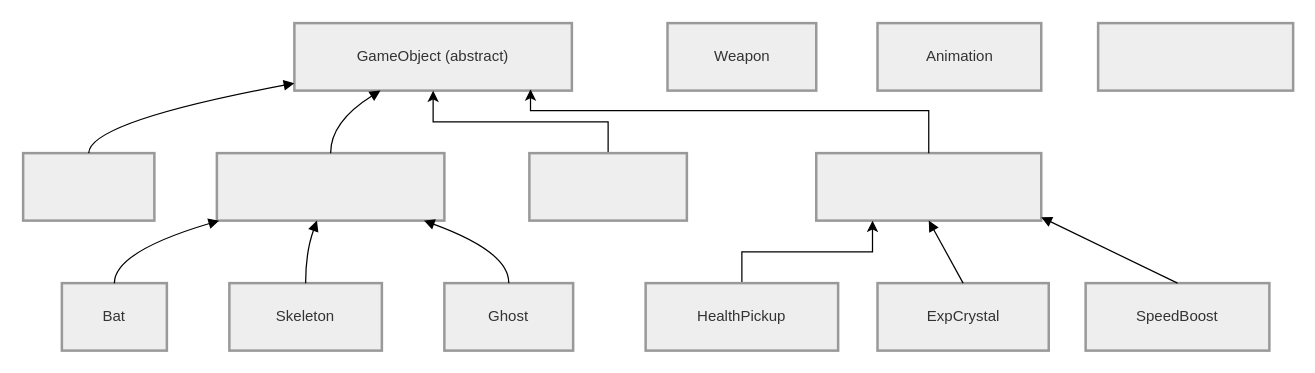
Some shapes in this 1315 by 373 pixel diagram are drawn without their labels. Each missing label, with the centre of its shape:
ConfigLoader: (x=1195, y=56)
Enemy (abstract): (x=330, y=186)
Pickup (abstract): (x=928, y=186)
Player: (x=88, y=186)
Projectile: (x=608, y=186)
